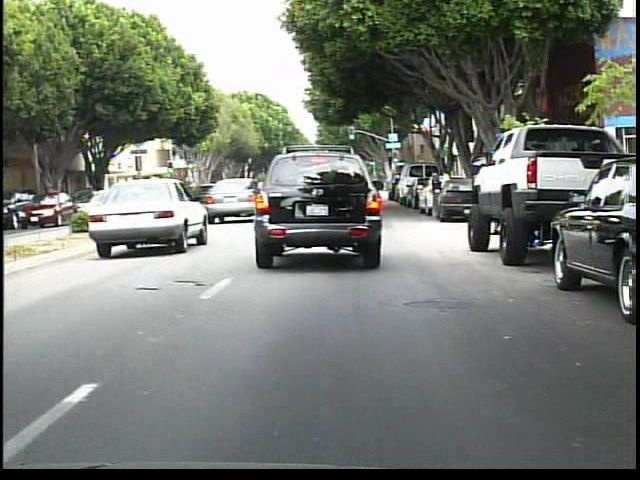person: (428, 174, 445, 222), (436, 166, 453, 214)
